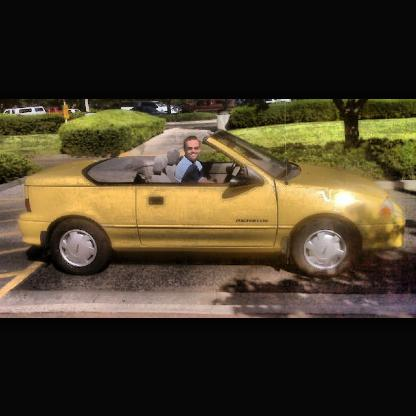Geo Metro Convertible 1993: (19, 129, 406, 277)
